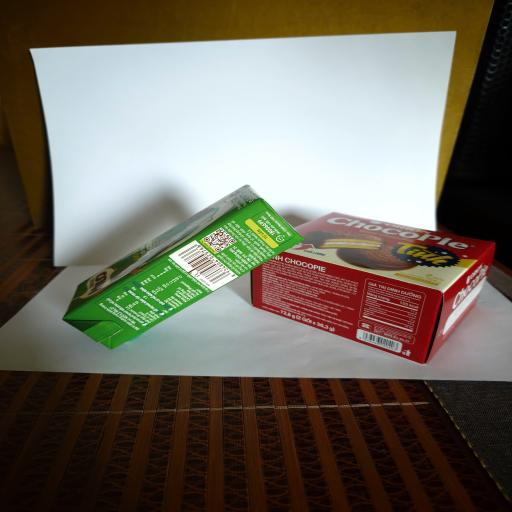chocopie: (250, 212, 496, 364)
milo: (62, 184, 304, 350)
